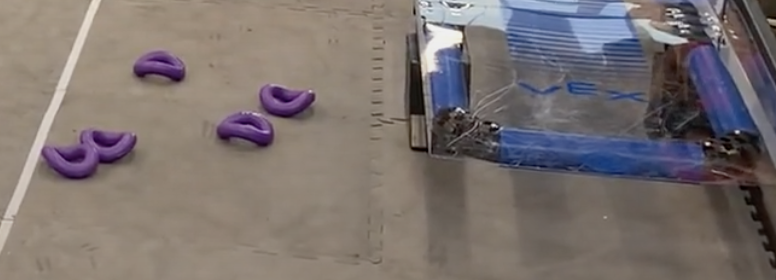ring: (80, 128, 139, 163), (218, 110, 274, 146), (259, 83, 316, 117), (42, 144, 99, 178), (133, 51, 186, 81)
